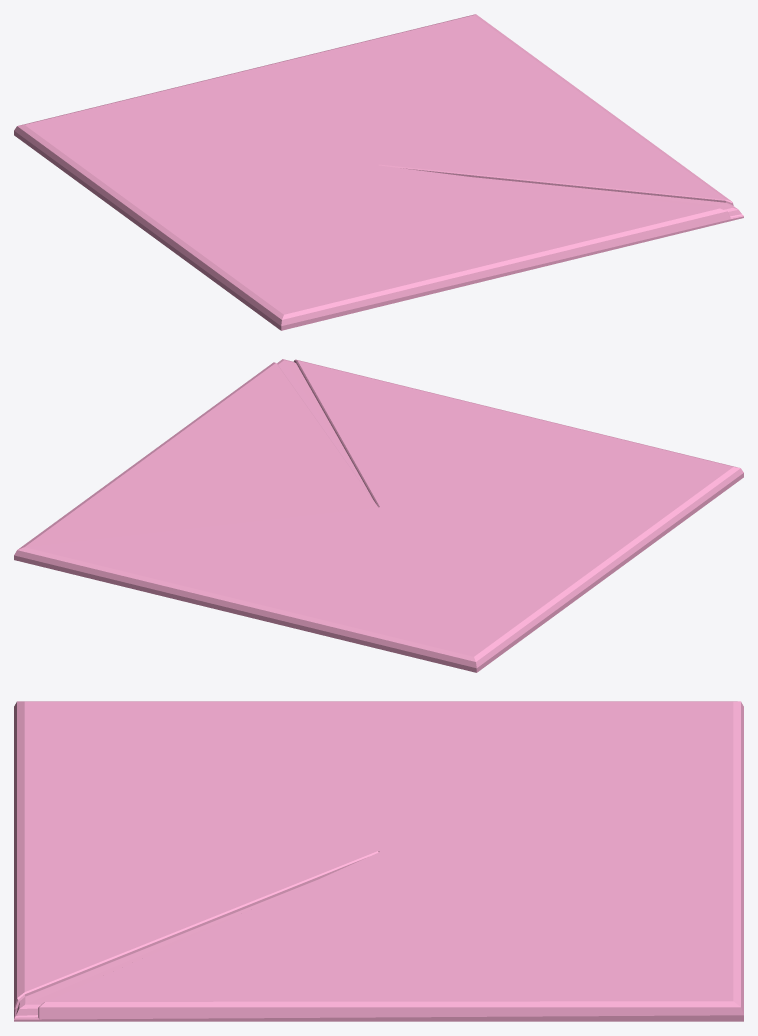
Rendered from FloorTileCracked_Model_v04.fbx.
3 renders of one model, top to bottom at view 1: azimuth 30°, elevation 25°; view 2: azimuth 150°, elevation 25°; view 3: azimuth 270°, elevation 25°, orthographic. The views are drawn at different scales.
Parts seen in each view (by area): view 1: pPlane1; view 2: pPlane1; view 3: pPlane1.
Boxes of the visible parts, x1,y1,x2,y2 form: pPlane1: (14,14,743,330); pPlane1: (14,359,743,672); pPlane1: (14,701,743,1021).
Size of the model in its own units: 400 by 9.62 by 400.
Materials: 1 (1 with a texture image).
